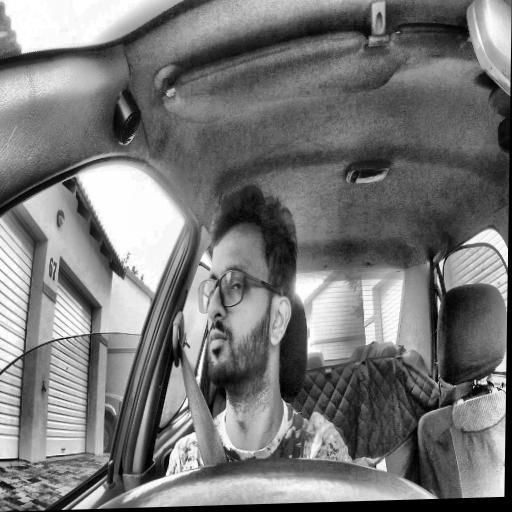awake: (197, 184, 298, 388)
